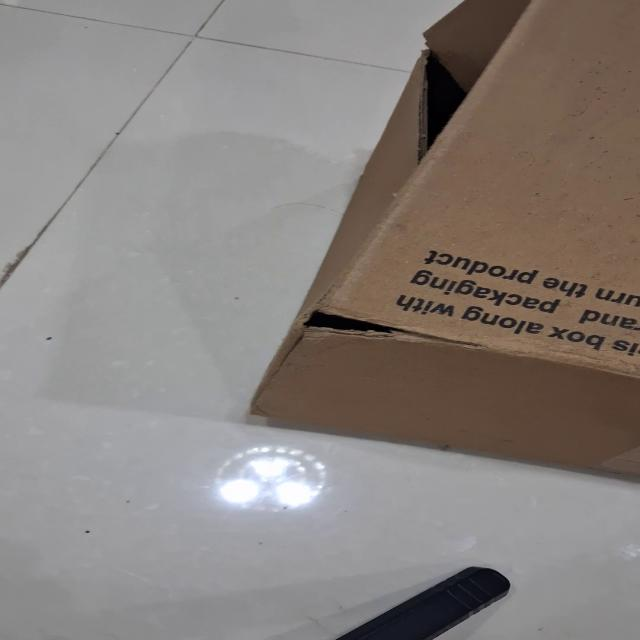paper: (2, 0, 638, 639), (246, 0, 639, 475)
